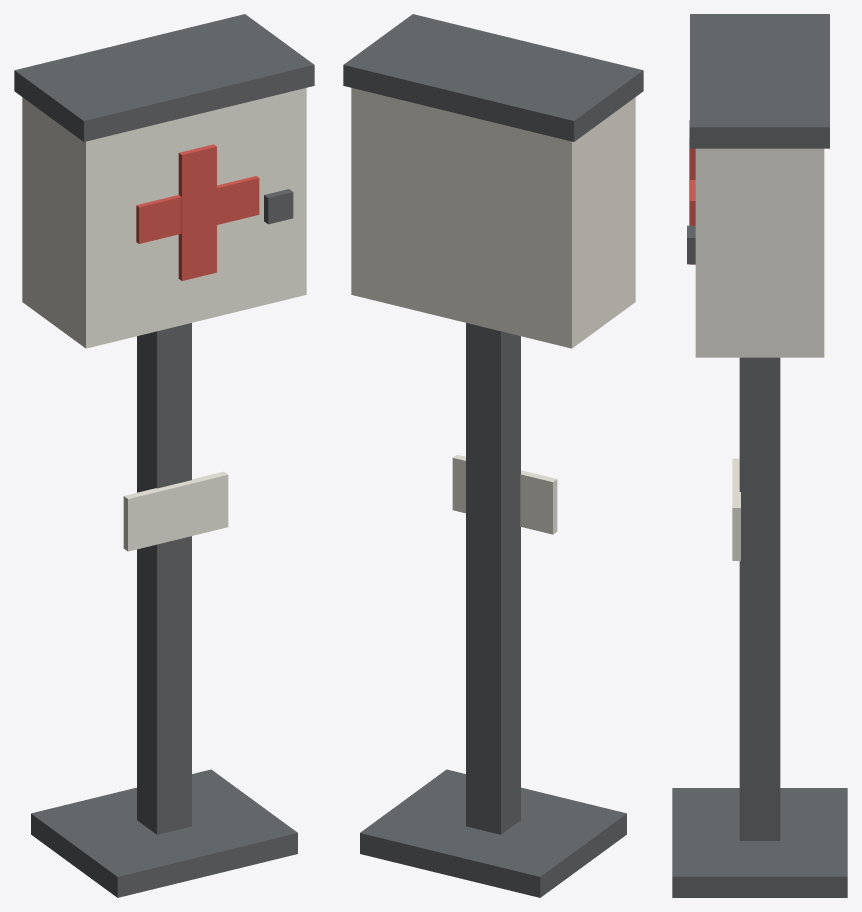
File: first-aid-station-cabinet.glb
The picture shows the model from 3 angles, left to right: view 1: azimuth 30°, elevation 25°; view 2: azimuth 150°, elevation 25°; view 3: azimuth 270°, elevation 25°; orthographic projection.
Visible parts, largest first — view 1: machine-shop-and-factory-hall-first-aid-station; view 2: machine-shop-and-factory-hall-first-aid-station; view 3: machine-shop-and-factory-hall-first-aid-station.
Part boxes in pixels (box(x1,y1,x2,y2)): machine-shop-and-factory-hall-first-aid-station: box(14, 14, 314, 897); machine-shop-and-factory-hall-first-aid-station: box(343, 14, 643, 897); machine-shop-and-factory-hall-first-aid-station: box(672, 14, 847, 897).
Size of the model in its own units: 0.46 by 1.48 by 0.2999.
